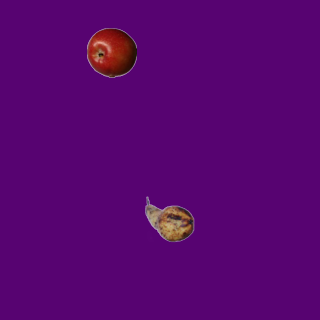Apple Braeburn: (86, 27, 136, 77)
Pear Abate: (144, 194, 194, 244)
